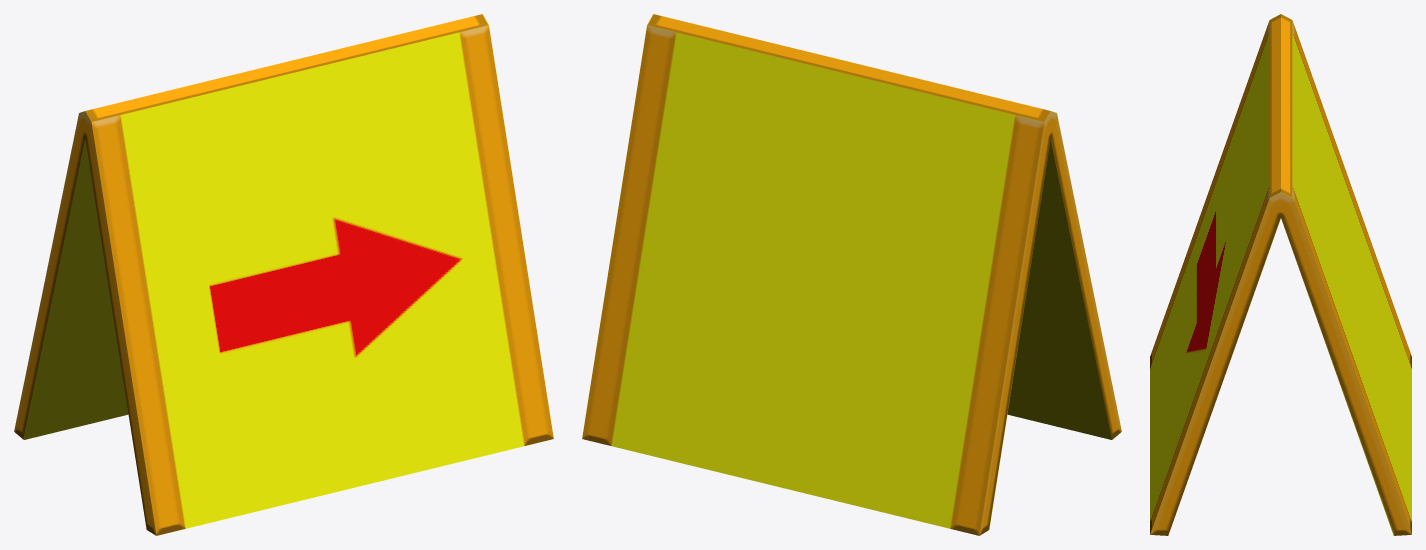
File: kanban.fbx
3 renders of one model, left to right at view 1: azimuth 30°, elevation 25°; view 2: azimuth 150°, elevation 25°; view 3: azimuth 270°, elevation 25°, orthographic. The views are drawn at different scales.
Parts seen in each view (by area): view 1: pCube272; view 2: pCube272; view 3: pCube272.
Boxes of the visible parts, <box> form: pCube272: <box>14,14,553,535</box>; pCube272: <box>582,14,1121,535</box>; pCube272: <box>1150,14,1411,535</box>.
Size of the model in its own units: 60.53 by 54.44 by 37.58.
